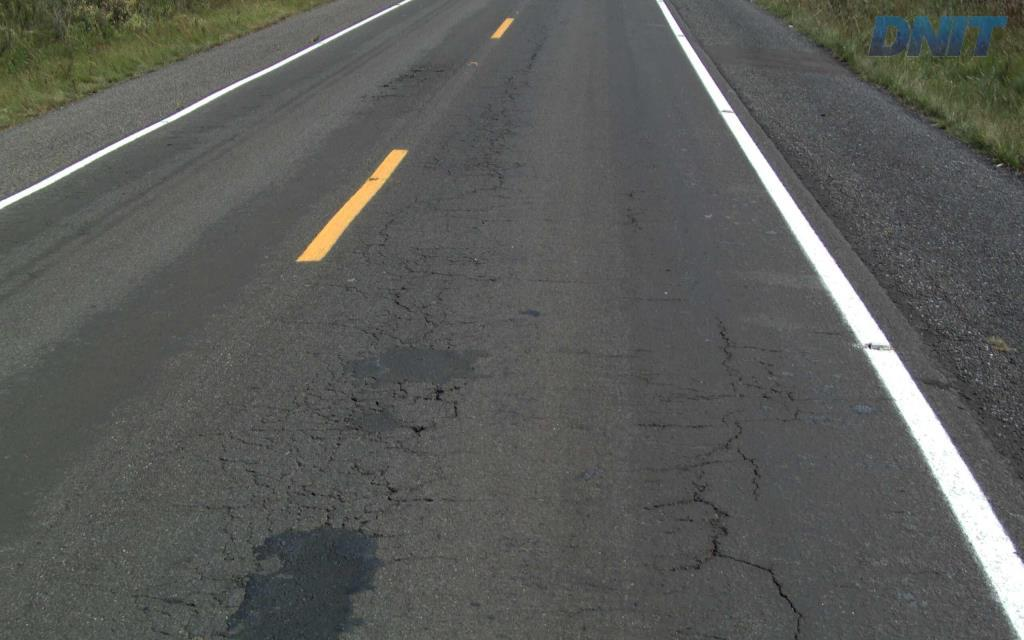crack: (709, 534, 803, 639), (230, 573, 260, 619)
